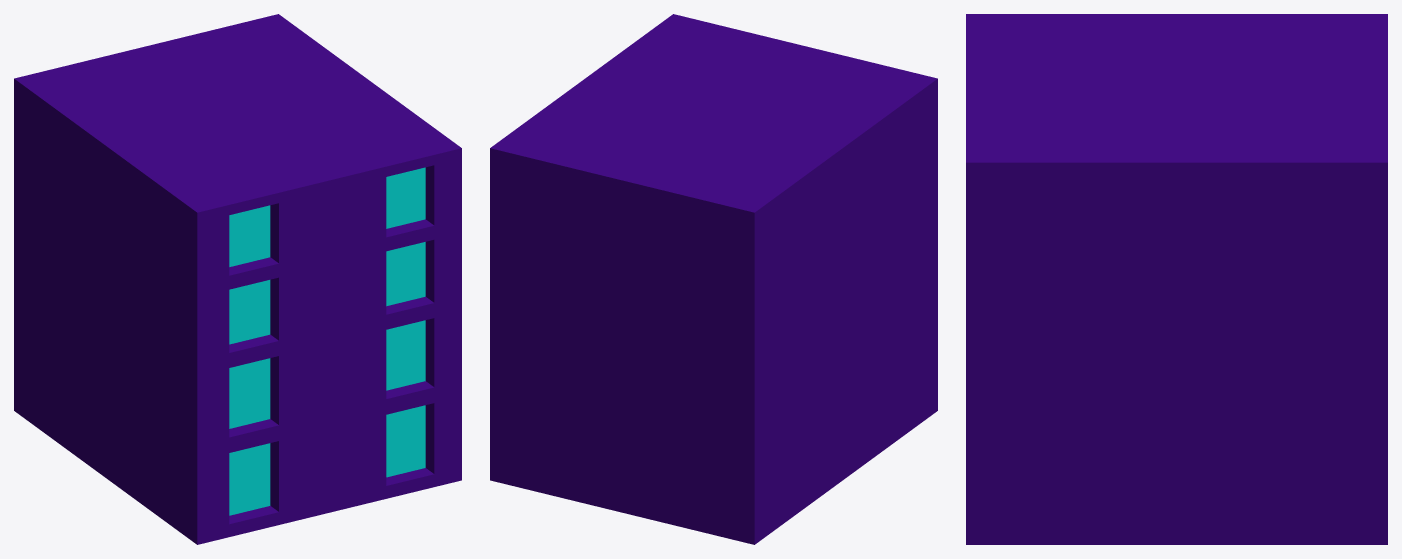
3 renders of one model, left to right at view 1: azimuth 30°, elevation 25°; view 2: azimuth 150°, elevation 25°; view 3: azimuth 270°, elevation 25°, orthographic. The views are drawn at different scales.
Parts seen in each view (by area): view 1: B_1; view 2: B_1; view 3: B_1.
Boxes of the visible parts, box(x1,y1,x2,y2) form: B_1: box(14, 14, 461, 544); B_1: box(490, 14, 937, 544); B_1: box(966, 14, 1387, 544).
Bounding box in the file's own units: 250 × 300 × 300.
